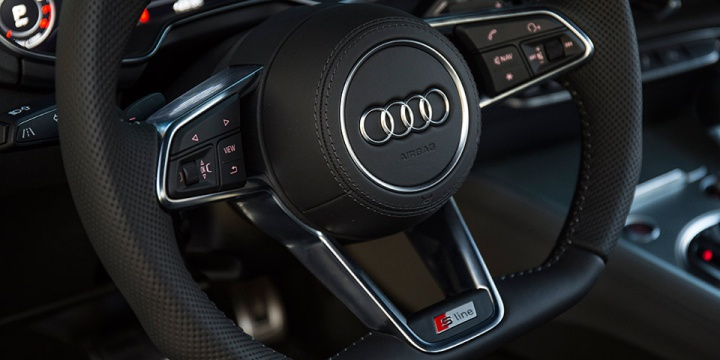audi: (355, 82, 455, 149)
